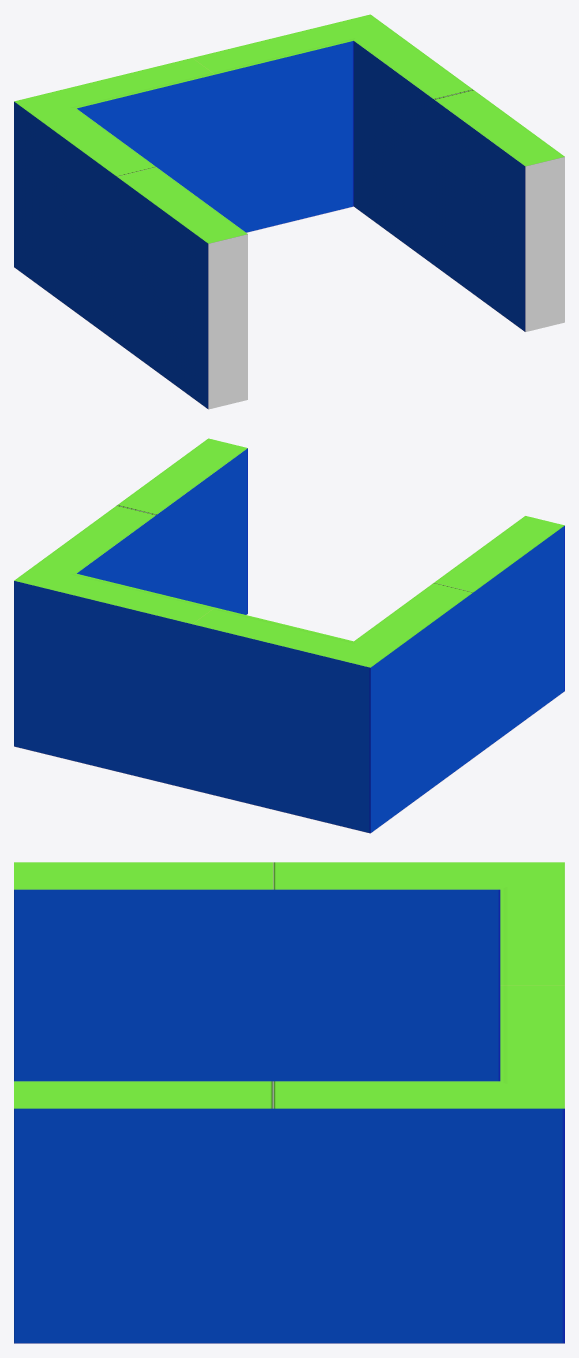
Rendered from MK_MK_Wall_DeadEnd_Half_D.fbx.
The picture shows the model from 3 angles, top to bottom: view 1: azimuth 30°, elevation 25°; view 2: azimuth 150°, elevation 25°; view 3: azimuth 270°, elevation 25°; orthographic projection. The views are drawn at different scales.
Visible parts, largest first — view 1: MK_Wall_DeadEnd_Half_D; view 2: MK_Wall_DeadEnd_Half_D; view 3: MK_Wall_DeadEnd_Half_D.
Boxes of the visible parts, <box> form: MK_Wall_DeadEnd_Half_D: <box>14,14,564,409</box>; MK_Wall_DeadEnd_Half_D: <box>14,438,564,833</box>; MK_Wall_DeadEnd_Half_D: <box>14,862,564,1343</box>.
Bounding box in the file's own units: 202 × 90 × 191.
1 material, 1 textured.
